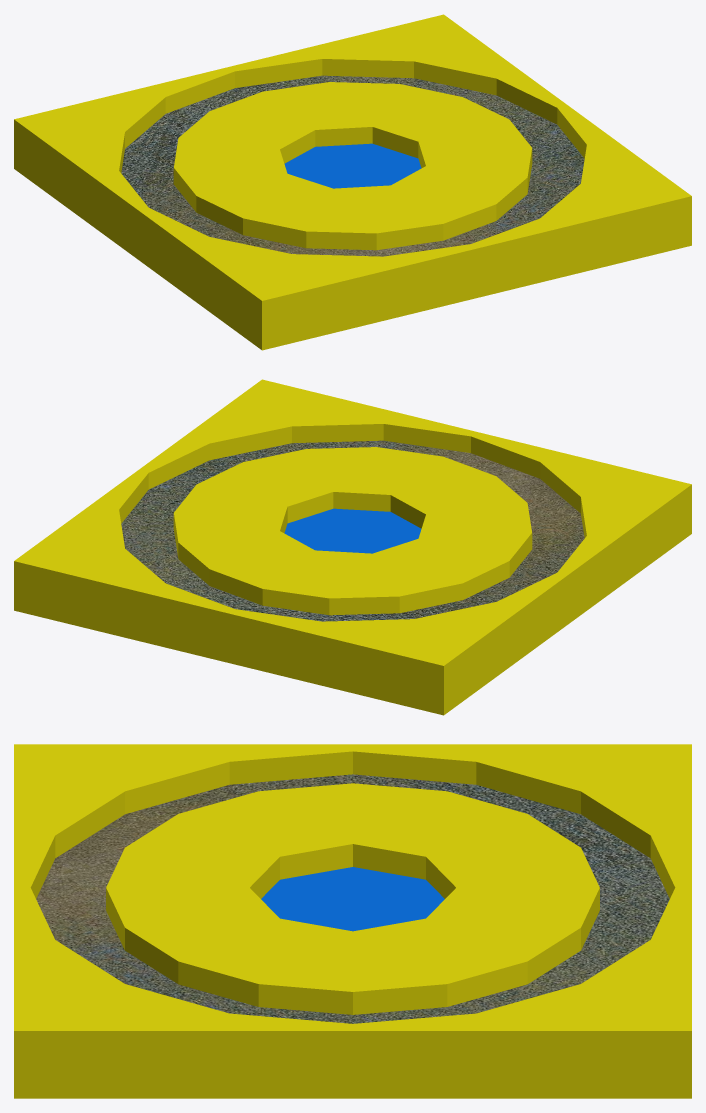
The model's file is Chão_Entrada.fbx.
3 renders of one model, top to bottom at view 1: azimuth 30°, elevation 25°; view 2: azimuth 150°, elevation 25°; view 3: azimuth 270°, elevation 25°, orthographic. The views are drawn at different scales.
Parts seen in each view (by area): view 1: Plano.001; view 2: Plano.001; view 3: Plano.001.
Boxes of the visible parts, x1,y1,x2,y2 form: Plano.001: [14, 14, 691, 350]; Plano.001: [14, 379, 691, 715]; Plano.001: [14, 744, 691, 1098].
Size of the model in its own units: 2925 by 322 by 2925.
